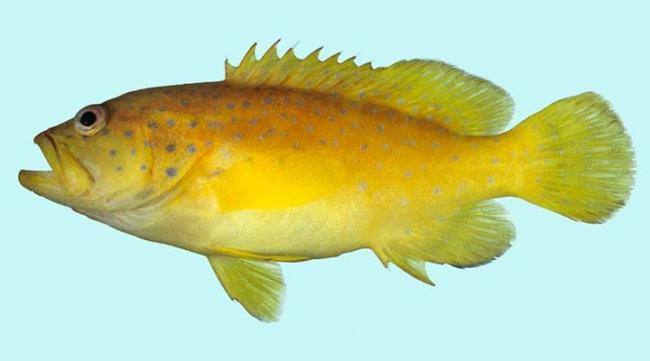fish: (19, 39, 637, 323)
